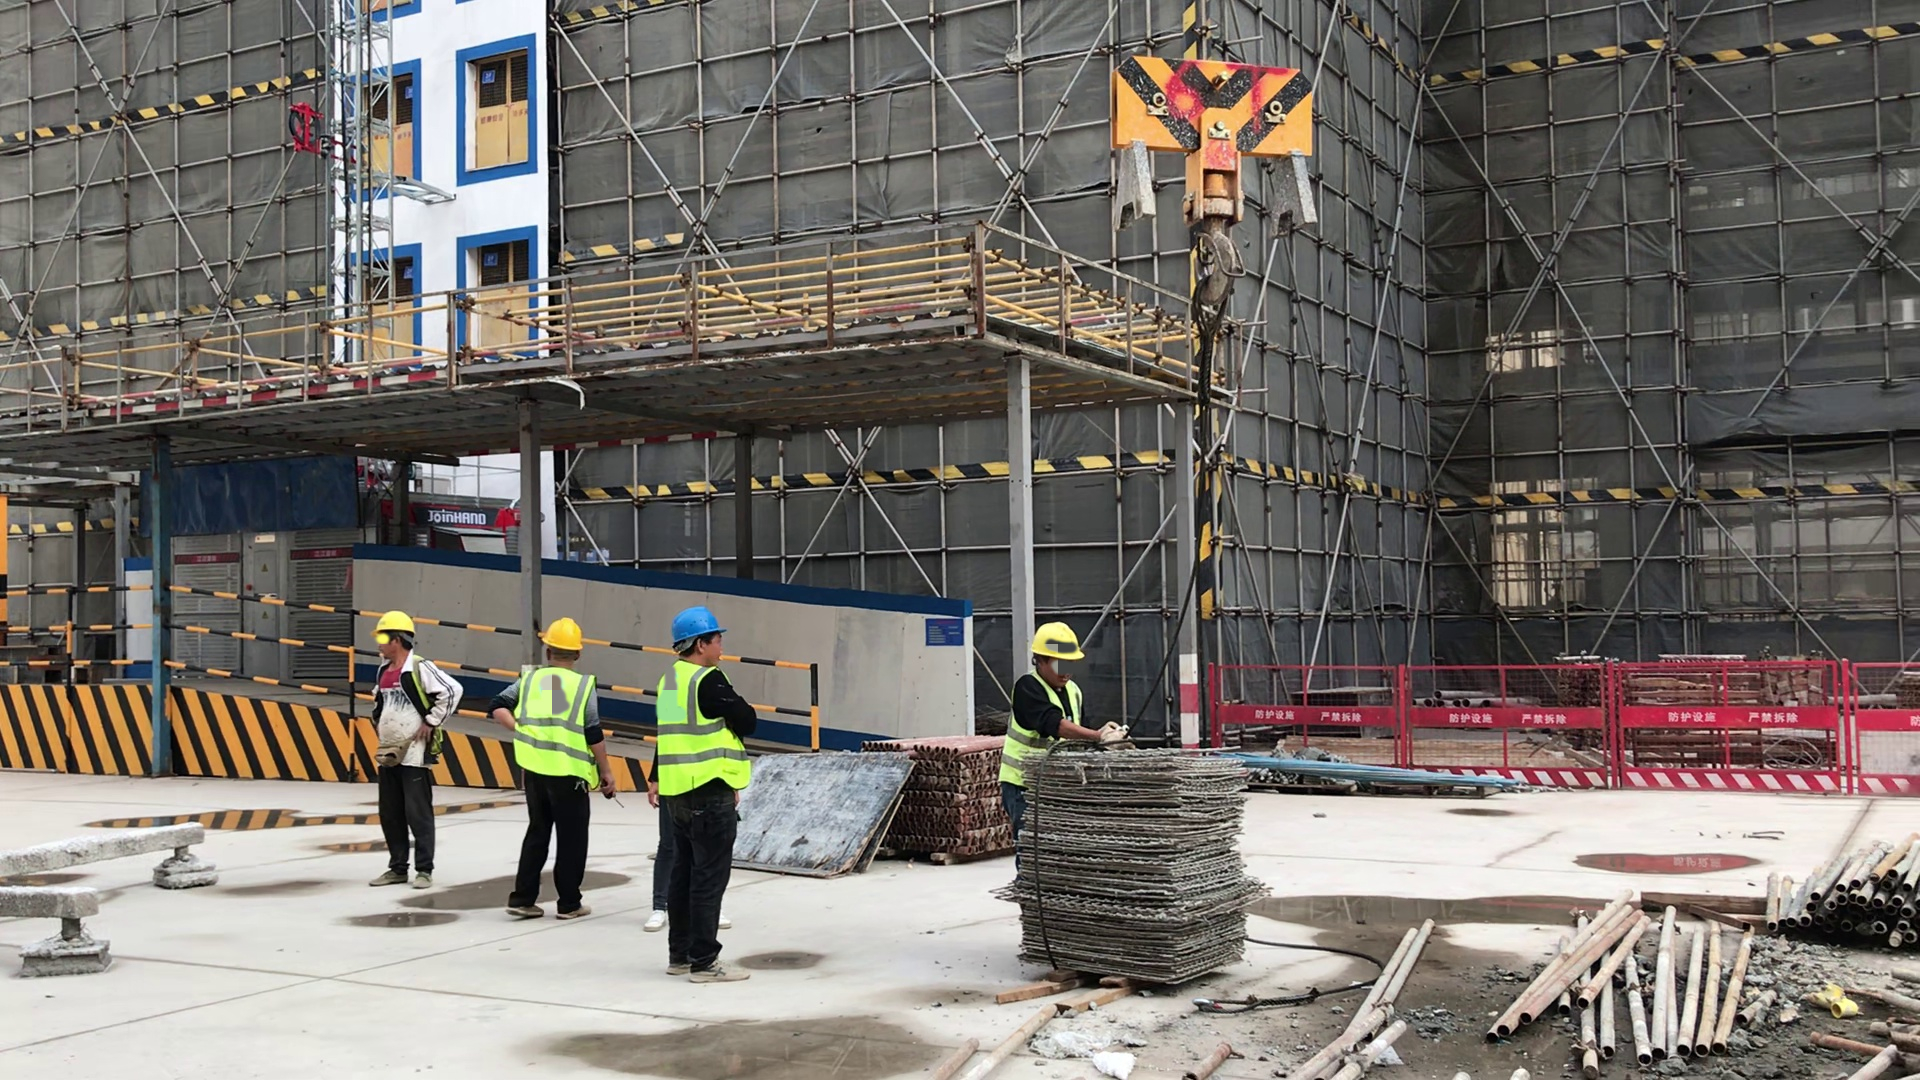helmet: (1018, 604, 1097, 681), (658, 595, 728, 663), (533, 606, 600, 666), (367, 598, 426, 648)
person: (637, 601, 763, 990), (349, 609, 463, 916), (509, 624, 624, 923), (1009, 618, 1129, 749)
vest: (654, 668, 746, 790), (1002, 678, 1089, 795), (520, 663, 600, 777)
